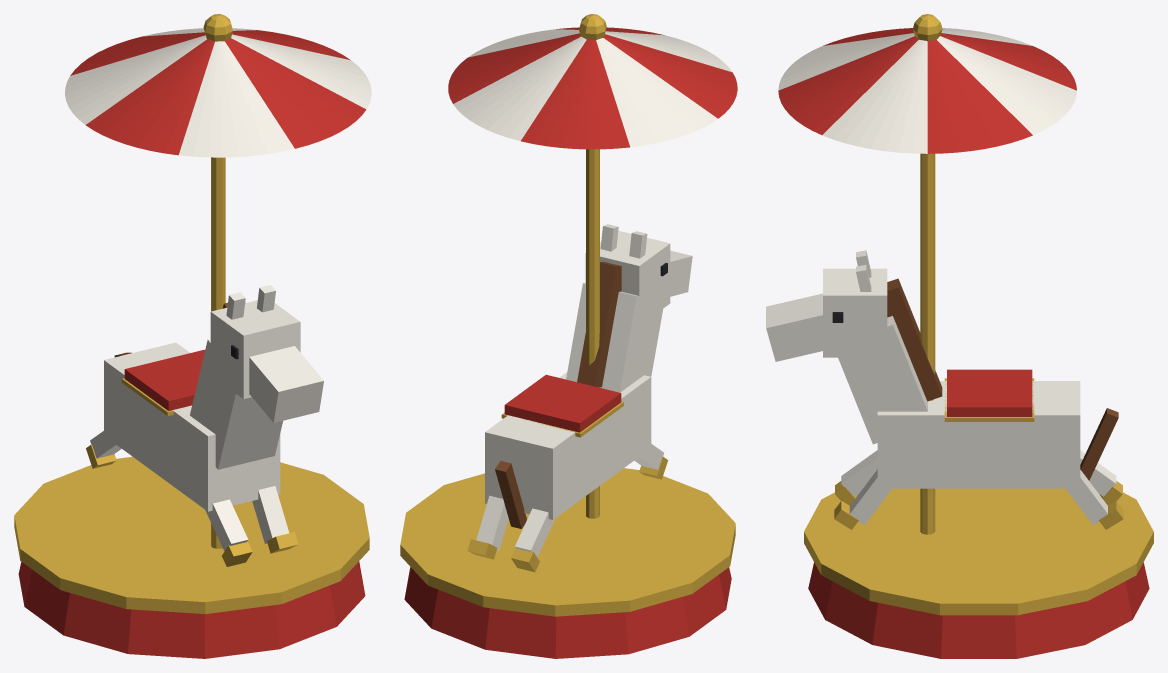
The model's file is carousel_horse.glb.
3 views of the same model, side by side, from view 1: azimuth 30°, elevation 25°; view 2: azimuth 150°, elevation 25°; view 3: azimuth 270°, elevation 25° (orthographic). The views are drawn at different scales.
Parts seen in each view (by area): view 1: base_horse_gold, canopy_horse_red, canopy_horse_white, base_horse_red, body_horse_white, head_horse_white, neck_horse_white, legs_horse_white, saddle_horse_red, pole_horse_gold, legs_horse_gold, ears_horse_white (+1 smaller); view 2: base_horse_gold, canopy_horse_white, canopy_horse_red, base_horse_red, body_horse_white, neck_horse_white, head_horse_white, saddle_horse_red, pole_horse_gold, legs_horse_white, mane_horse_mane, legs_horse_gold (+3 smaller); view 3: base_horse_gold, body_horse_white, canopy_horse_red, canopy_horse_white, base_horse_red, head_horse_white, neck_horse_white, saddle_horse_red, pole_horse_gold, legs_horse_white, mane_horse_mane, legs_horse_gold (+3 smaller).
Part boxes in pixels (x1,y1,x2,y2): base_horse_gold: (14, 456, 369, 613); canopy_horse_red: (70, 30, 366, 155); canopy_horse_white: (65, 28, 371, 157); base_horse_red: (18, 561, 365, 658); body_horse_white: (104, 342, 280, 511); head_horse_white: (210, 300, 323, 422); neck_horse_white: (190, 338, 282, 469); legs_horse_white: (90, 431, 289, 551); saddle_horse_red: (124, 349, 204, 410); pole_horse_gold: (211, 157, 225, 548); legs_horse_gold: (86, 444, 298, 566); ears_horse_white: (226, 285, 275, 319); base_horse_gold: (400, 468, 735, 616); canopy_horse_white: (453, 29, 732, 147); canopy_horse_red: (448, 27, 737, 149); base_horse_red: (404, 567, 731, 658); body_horse_white: (485, 372, 651, 519); neck_horse_white: (566, 283, 662, 392); head_horse_white: (585, 230, 692, 325); saddle_horse_red: (504, 374, 621, 432); pole_horse_gold: (586, 149, 599, 518); legs_horse_white: (476, 444, 663, 557); mane_horse_mane: (577, 261, 621, 387); legs_horse_gold: (467, 456, 668, 572); base_horse_gold: (804, 488, 1153, 615); body_horse_white: (877, 381, 1080, 488); canopy_horse_red: (778, 28, 1076, 153); canopy_horse_white: (778, 28, 1076, 153); base_horse_red: (808, 562, 1149, 658); head_horse_white: (766, 268, 887, 361); neck_horse_white: (838, 316, 927, 444); saddle_horse_red: (947, 369, 1032, 416); pole_horse_gold: (920, 153, 935, 534); legs_horse_white: (841, 450, 1116, 524); mane_horse_mane: (887, 278, 942, 401); legs_horse_gold: (834, 481, 1123, 529).
Size of the model in its own units: 1.6 by 2.97 by 1.82.
